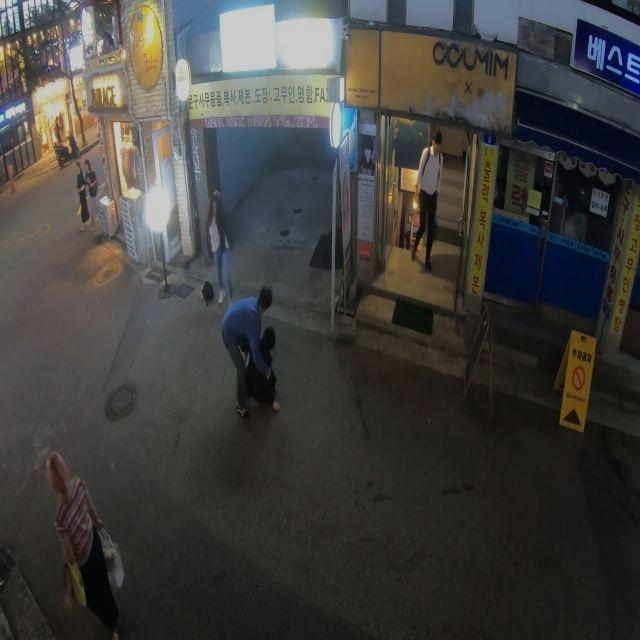fight: (217, 287, 284, 418)
non-fight: (205, 190, 233, 305)
